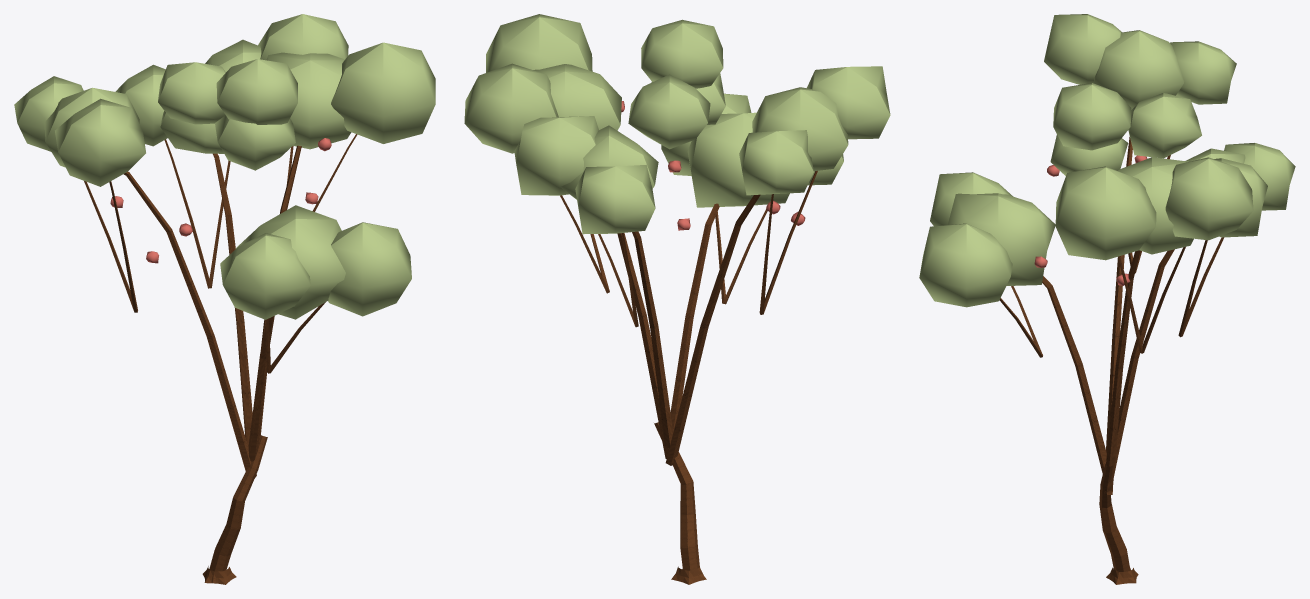
The model's file is dense-temperate-forest-flora-rowan-old-3d2af553__28328.glb.
3 renders of one model, left to right at view 1: azimuth 30°, elevation 25°; view 2: azimuth 150°, elevation 25°; view 3: azimuth 270°, elevation 25°, orthographic. The views are drawn at different scales.
Parts seen in each view (by area): view 1: rowan-old; view 2: rowan-old; view 3: rowan-old.
Boxes of the visible parts, x1,y1,x2,y2 form: rowan-old: (14, 14, 435, 584); rowan-old: (464, 14, 890, 584); rowan-old: (919, 14, 1295, 584).
Bounding box in the file's own units: 7.04 × 9.13 × 6.18.
Materials: 3 (1 with a texture image).
